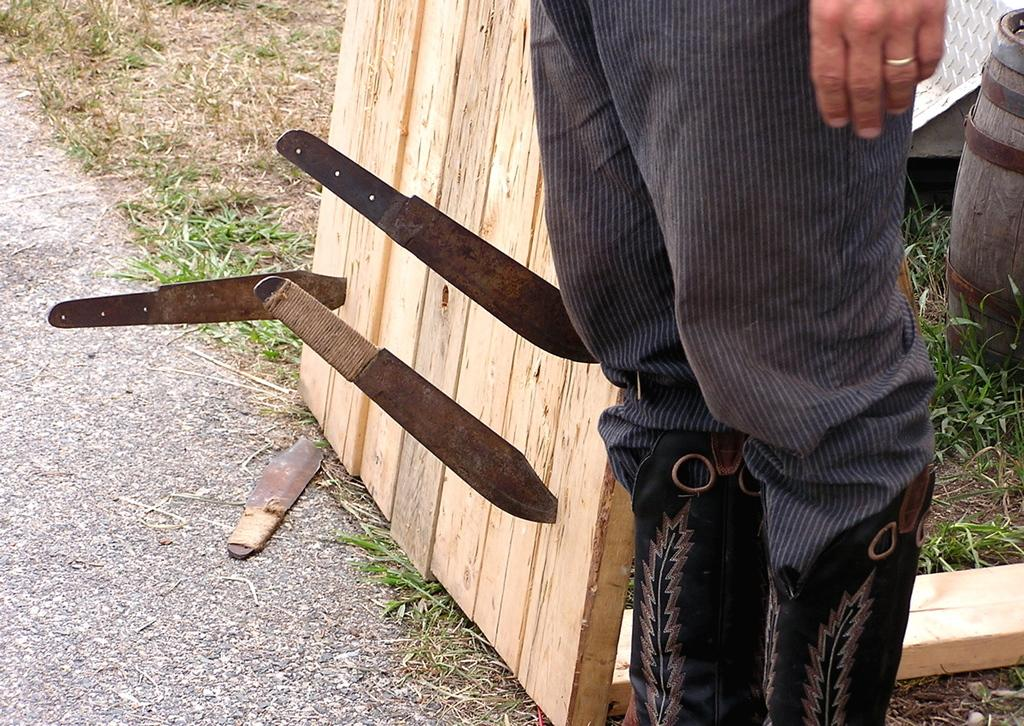knife: (264, 122, 596, 367), (254, 276, 559, 520), (39, 269, 354, 330)
